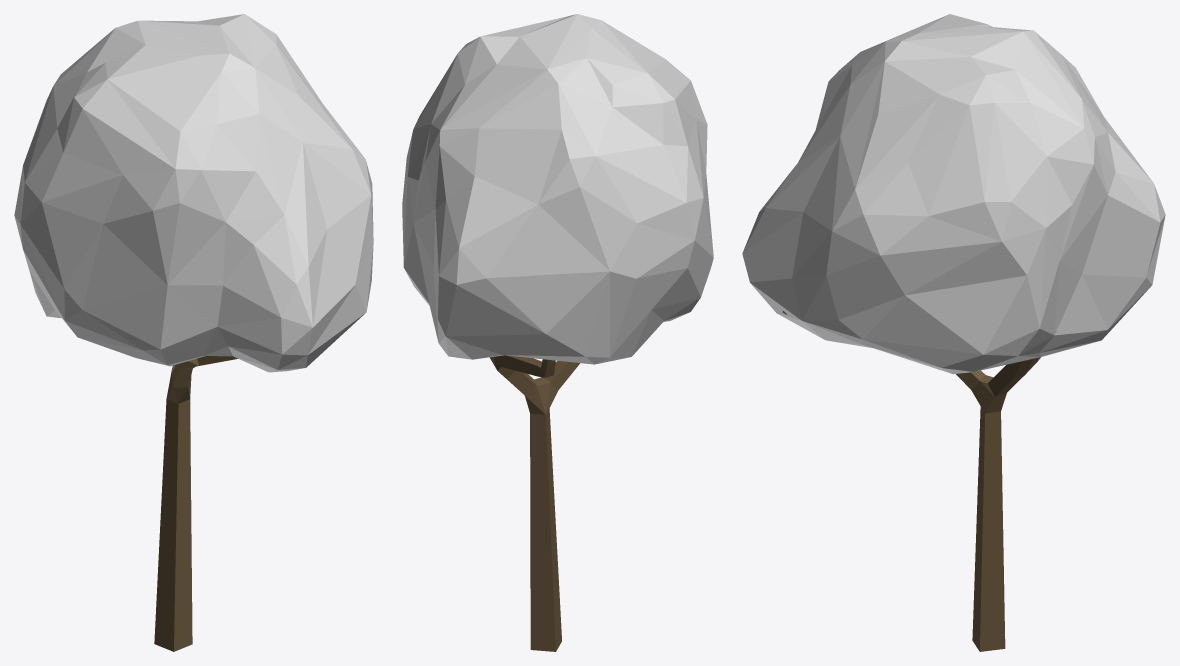
Rendered from large-tree-4.glb.
3 renders of one model, left to right at view 1: azimuth 30°, elevation 25°; view 2: azimuth 150°, elevation 25°; view 3: azimuth 270°, elevation 25°, orthographic. The views are drawn at different scales.
Visible parts, largest first — view 1: large-tree-4; view 2: large-tree-4; view 3: large-tree-4.
Part boxes in pixels (bbox=[...]): large-tree-4: bbox=[14, 14, 373, 651]; large-tree-4: bbox=[402, 14, 713, 651]; large-tree-4: bbox=[742, 14, 1165, 651].
Size of the model in its own units: 0.2256 by 0.4501 by 0.2834.
